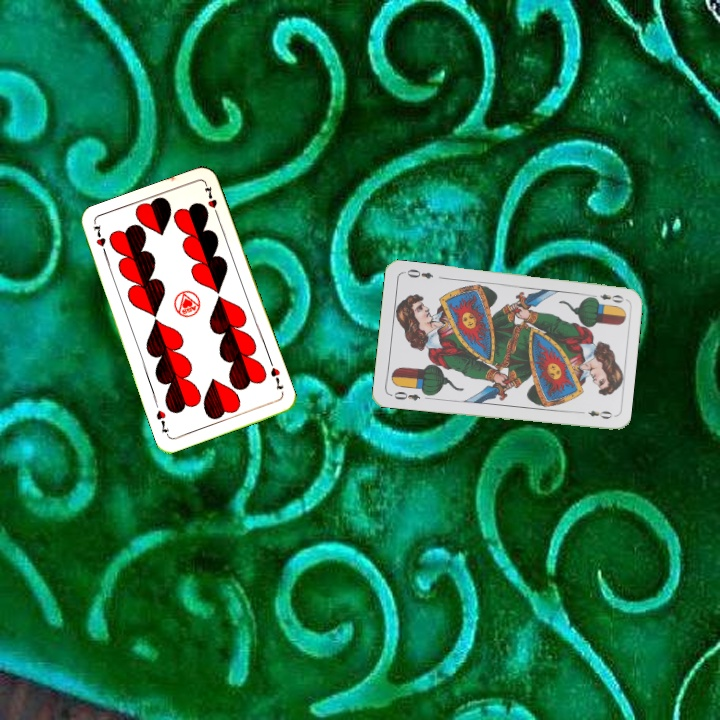EO: (587, 290, 626, 305), (390, 387, 423, 403)
H7: (89, 220, 109, 260), (266, 363, 286, 393)
